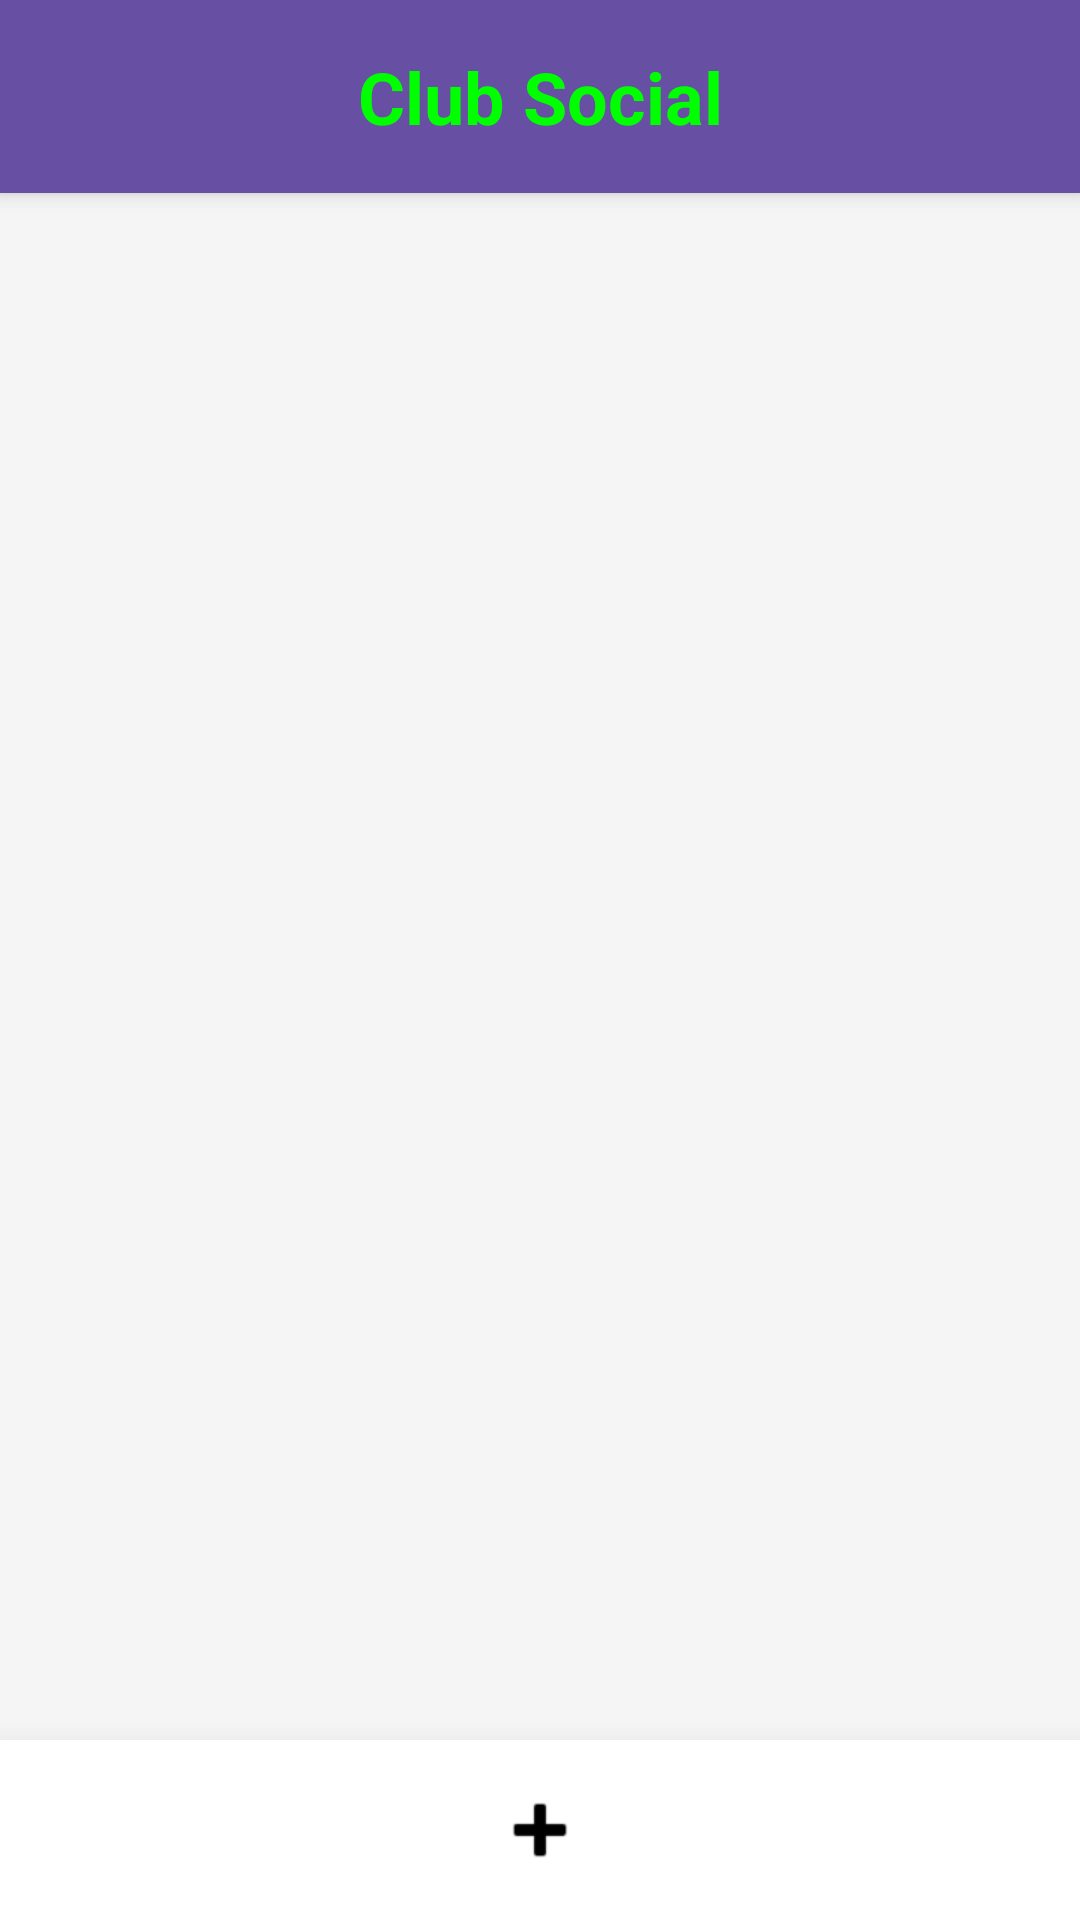

Icons on this 1080 x 1920 Android screen, each with the point to tap as [x,y]:
Crear publicación: [540,1830]
